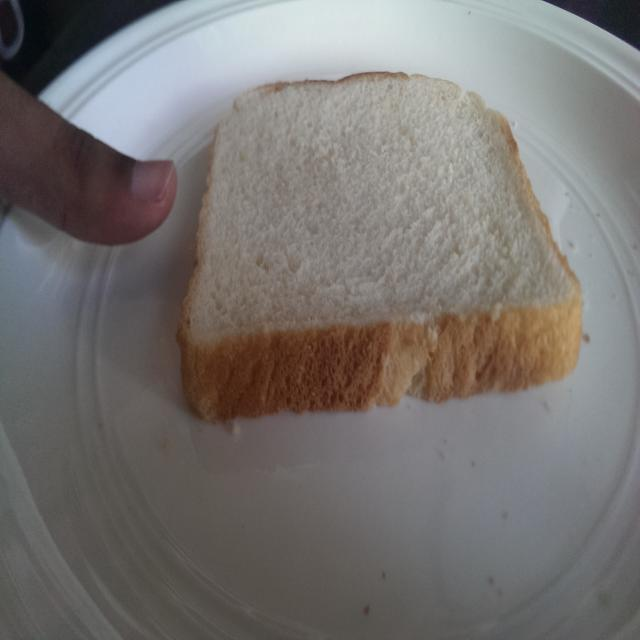Bread: (176, 55, 588, 432)
Finger: (54, 94, 187, 256)
